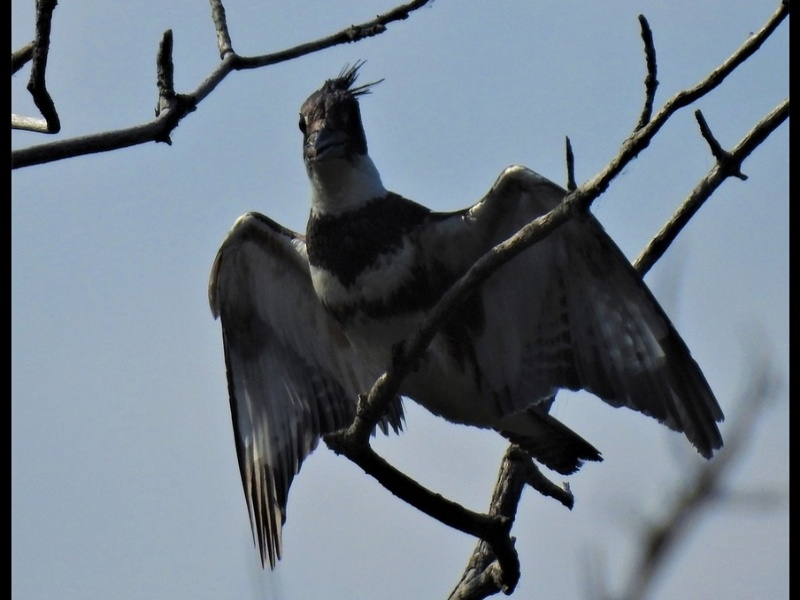kingfisher: (202, 68, 736, 566)
